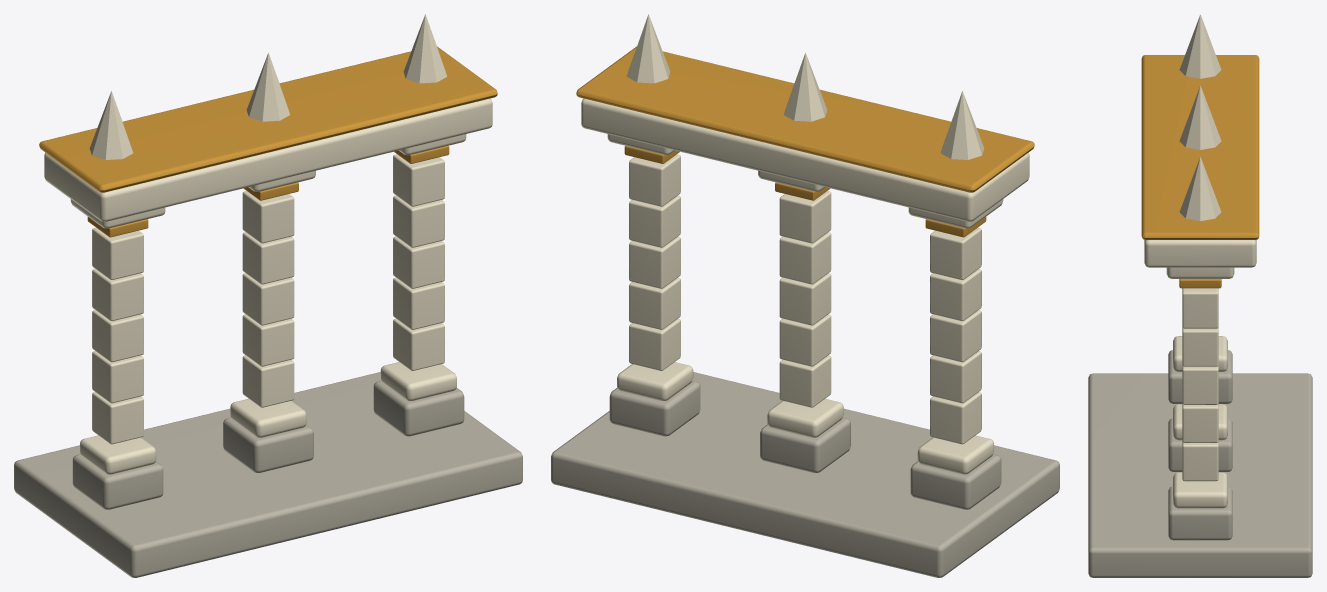
File: OBJ40_column_pavilion.glb
3 views of the same model, side by side, from view 1: azimuth 30°, elevation 25°; view 2: azimuth 150°, elevation 25°; view 3: azimuth 270°, elevation 25° (orthographic). The views are drawn at different scales.
Visible parts, largest first — view 1: Pavilion base, Pavilion brass line, Pavilion architrave, Column footing, Column footing.002, Column footing.001, Column masonry.009, Column masonry.004, Column masonry.014, Column masonry.006, Column masonry.005, Column masonry.007 (+16 smaller); view 2: Pavilion base, Pavilion brass line, Pavilion architrave, Column footing, Column footing.002, Column footing.001, Column masonry.009, Column masonry.004, Column masonry.014, Column masonry.006, Column masonry.005, Column masonry.007 (+16 smaller); view 3: Pavilion base, Pavilion brass line, Pavilion architrave, Column footing.002, Foot trim.002, Column masonry.014, Pavilion finial.002, Pavilion finial.001, Pavilion finial, Column masonry.012, Column masonry.013, Column masonry.010 (+7 smaller).
Boxes of the visible parts, bbox=[...] form: Pavilion base: bbox=[14, 372, 522, 577]; Pavilion brass line: bbox=[39, 46, 497, 192]; Pavilion architrave: bbox=[44, 98, 492, 221]; Column footing: bbox=[72, 454, 163, 509]; Column footing.002: bbox=[373, 381, 464, 436]; Column footing.001: bbox=[223, 417, 313, 472]; Column masonry.009: bbox=[242, 191, 294, 243]; Column masonry.004: bbox=[92, 227, 143, 279]; Column masonry.014: bbox=[393, 154, 444, 206]; Column masonry.006: bbox=[242, 314, 294, 366]; Column masonry.005: bbox=[242, 355, 294, 407]; Column masonry.007: bbox=[242, 273, 294, 325]; Pavilion base: bbox=[551, 372, 1059, 577]; Pavilion brass line: bbox=[576, 46, 1034, 192]; Pavilion architrave: bbox=[581, 98, 1029, 221]; Column footing: bbox=[910, 454, 1001, 509]; Column footing.002: bbox=[609, 381, 700, 436]; Column footing.001: bbox=[760, 417, 850, 472]; Column masonry.009: bbox=[779, 191, 831, 243]; Column masonry.004: bbox=[930, 227, 981, 279]; Column masonry.014: bbox=[629, 154, 680, 206]; Column masonry.006: bbox=[779, 314, 831, 366]; Column masonry.005: bbox=[779, 355, 831, 407]; Column masonry.007: bbox=[779, 273, 831, 325]; Pavilion base: bbox=[1088, 373, 1312, 577]; Pavilion brass line: bbox=[1141, 55, 1259, 239]; Pavilion architrave: bbox=[1144, 240, 1256, 267]; Column footing.002: bbox=[1168, 486, 1232, 540]; Foot trim.002: bbox=[1173, 472, 1227, 508]; Column masonry.014: bbox=[1182, 288, 1218, 328]; Pavilion finial.002: bbox=[1179, 156, 1221, 220]; Pavilion finial.001: bbox=[1179, 85, 1221, 149]; Pavilion finial: bbox=[1179, 14, 1221, 78]; Column masonry.012: bbox=[1182, 365, 1218, 404]; Column masonry.013: bbox=[1182, 327, 1218, 366]; Column masonry.010: bbox=[1182, 442, 1218, 481].
Size of the model in its own units: 3.05 by 3.19 by 1.6.
